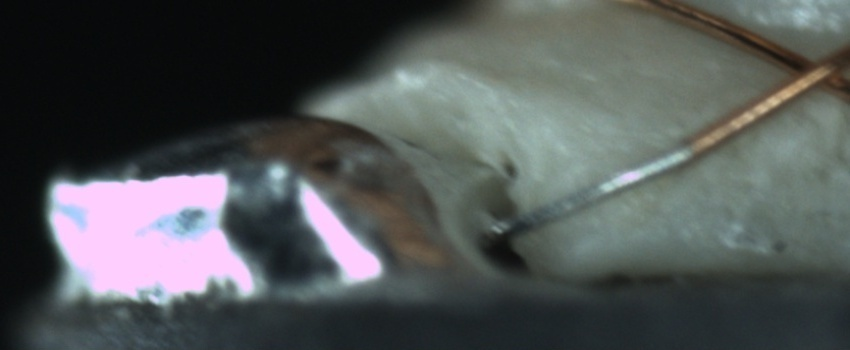CL: (760, 33, 846, 106)
TS: (489, 142, 695, 244)
